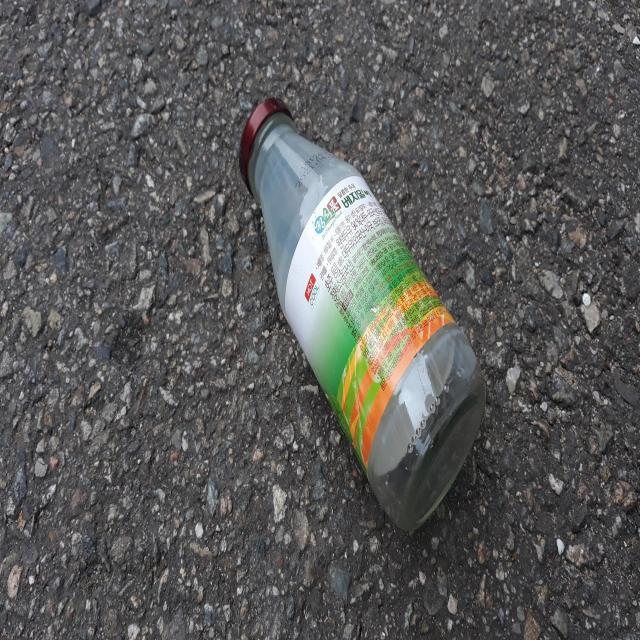glass: (239, 97, 486, 532)
